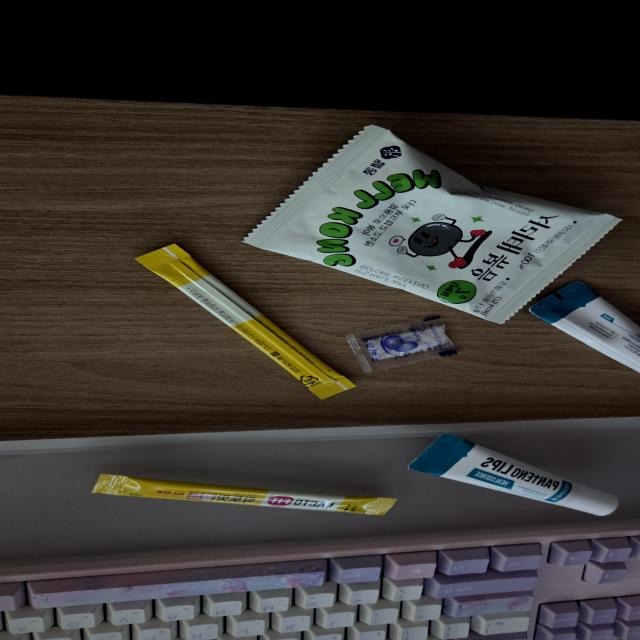lacto: (133, 242, 358, 401), (93, 472, 396, 516)
lib: (408, 432, 620, 518), (528, 280, 640, 393)
salt: (340, 314, 459, 375)
